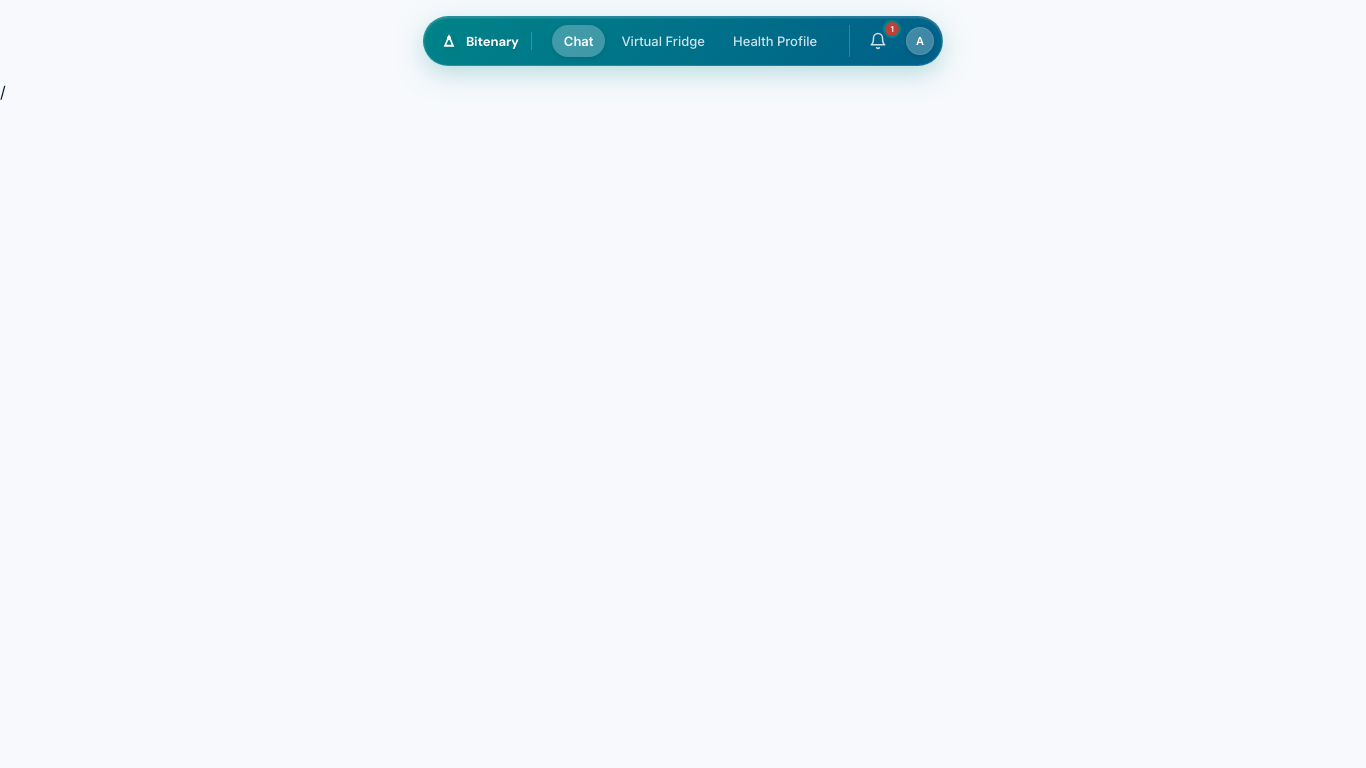
Scenario: TopNav settings › closes notifications when the user menu opens
Click the button named "Notifications" at (878, 41), box [862,25,894,57]
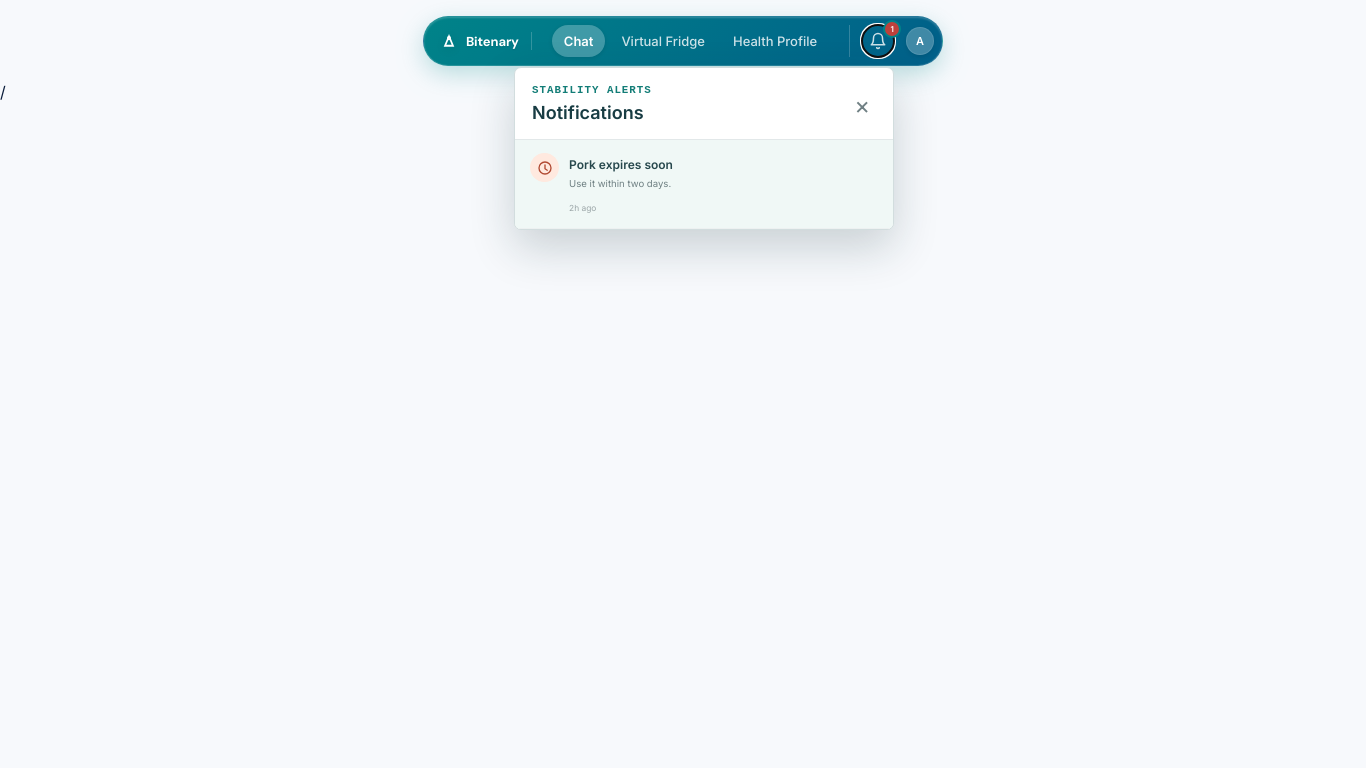
Click the button named "User menu for Ada" at (920, 41), box [906,27,934,55]
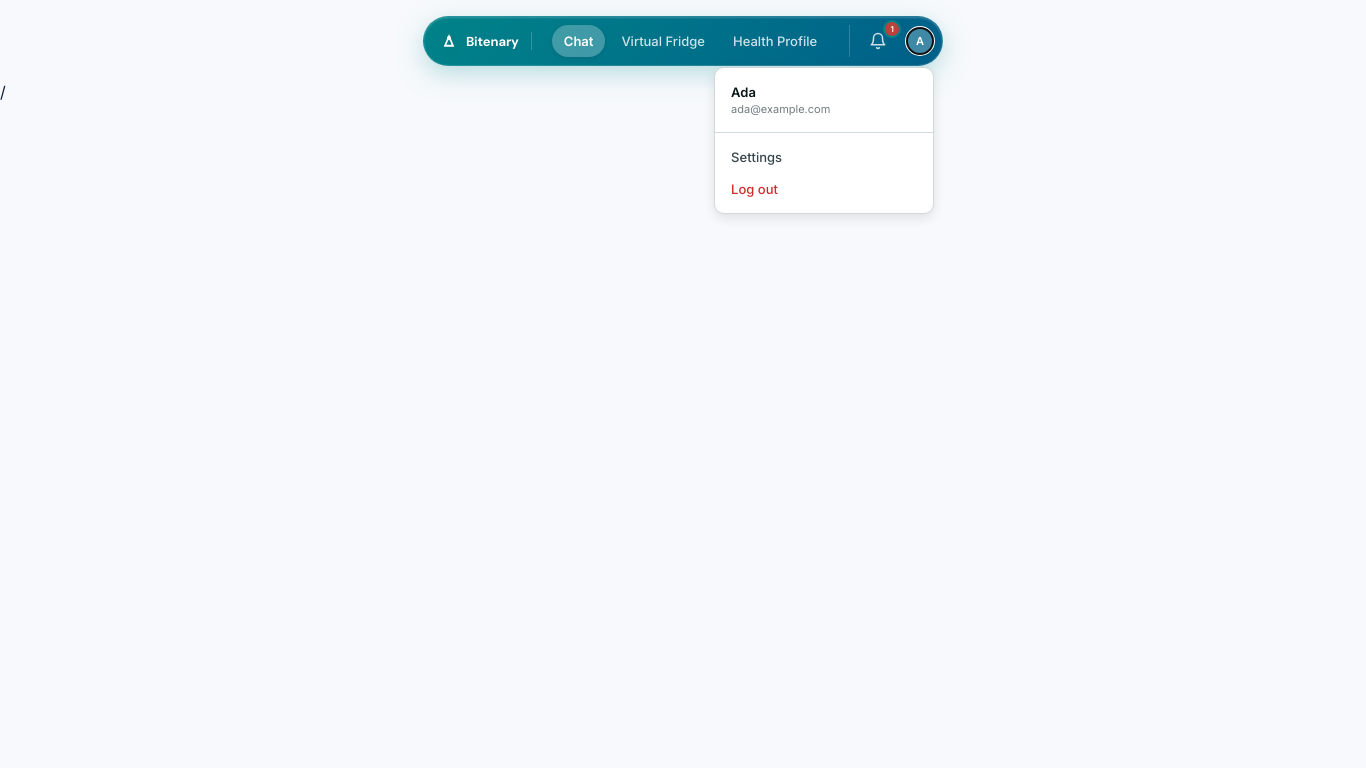
Now the button "Settings" is shown, box [715,141,933,173]
